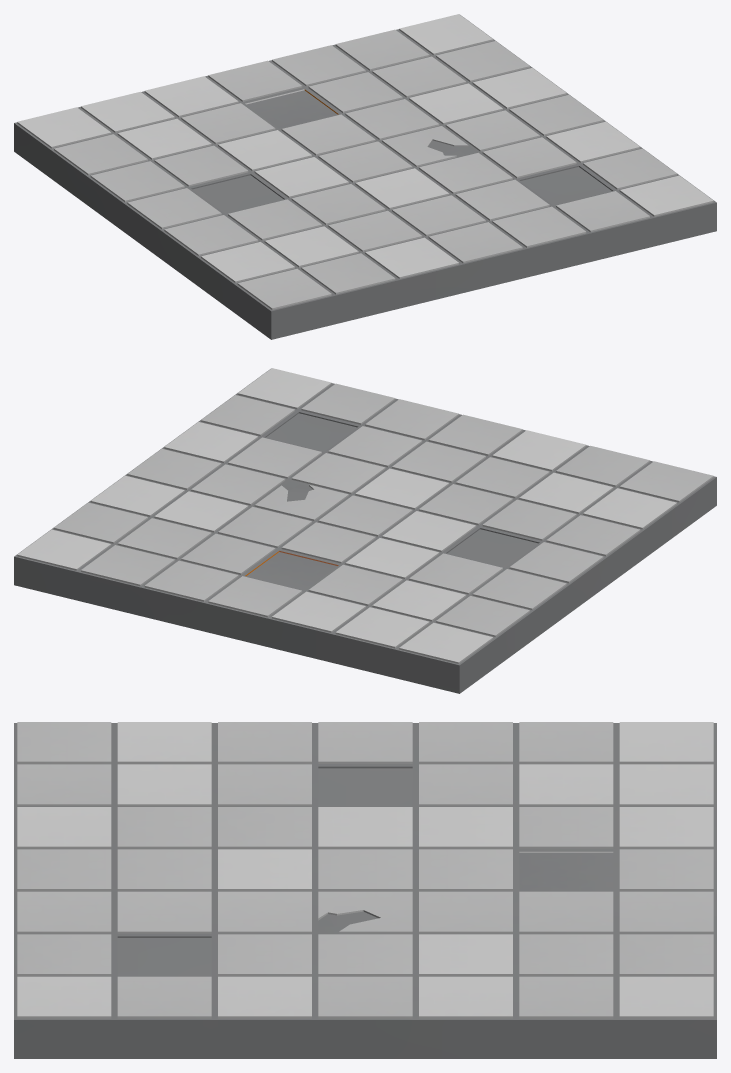
Rendered from tile_floor_1_damaged_2.glb.
The picture shows the model from 3 angles, top to bottom: view 1: azimuth 30°, elevation 25°; view 2: azimuth 150°, elevation 25°; view 3: azimuth 270°, elevation 25°; orthographic projection. The views are drawn at different scales.
Parts seen in each view (by area): view 1: tile_floor_1_damaged_2; view 2: tile_floor_1_damaged_2; view 3: tile_floor_1_damaged_2.
Boxes of the visible parts, box(x1,y1,x2,y2) form: tile_floor_1_damaged_2: box(14, 14, 716, 339); tile_floor_1_damaged_2: box(14, 368, 716, 693); tile_floor_1_damaged_2: box(14, 722, 716, 1058).
Bounding box in the file's own units: 2 × 0.1294 × 2.
1 material, 1 textured.
